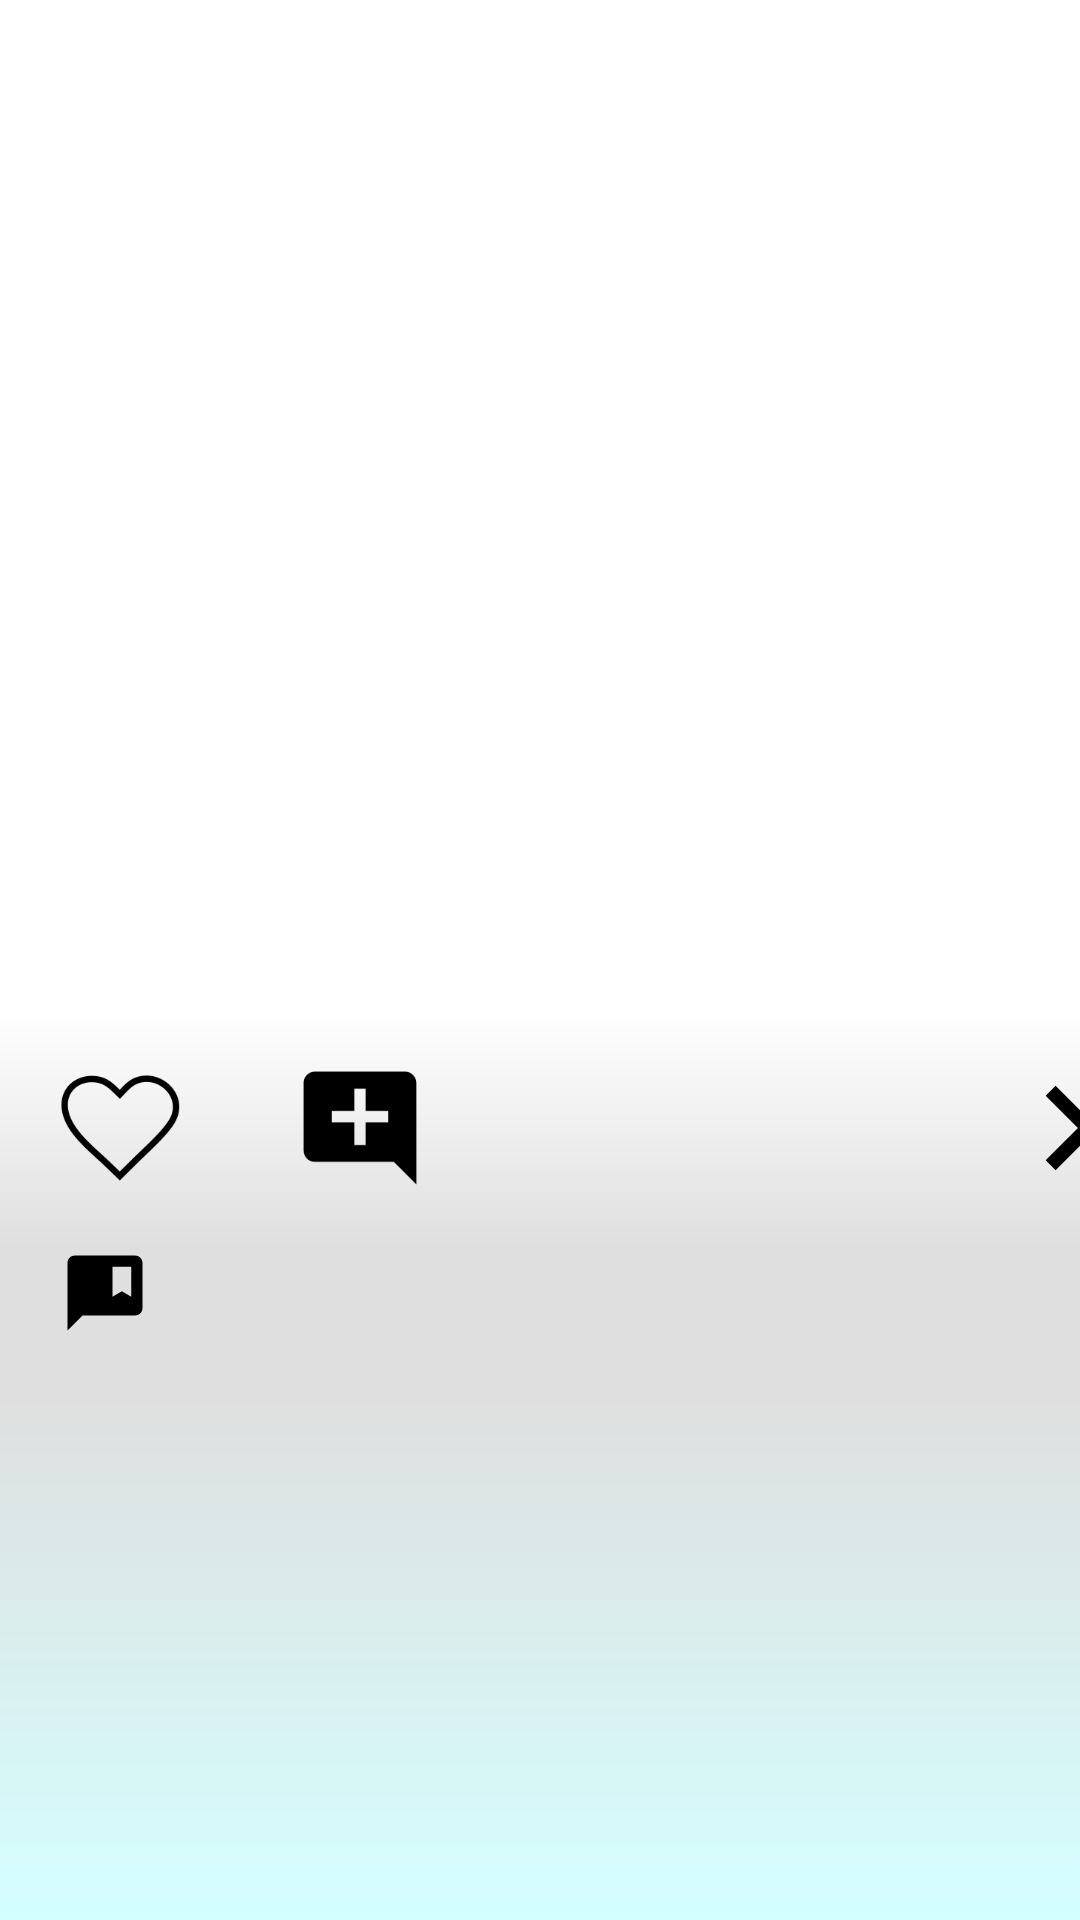

Icon bounding boxes for this 1080 x 1920 phone screenshot, format (x1, y1, x2, y2):
comment bank: (67, 1255, 143, 1331)
